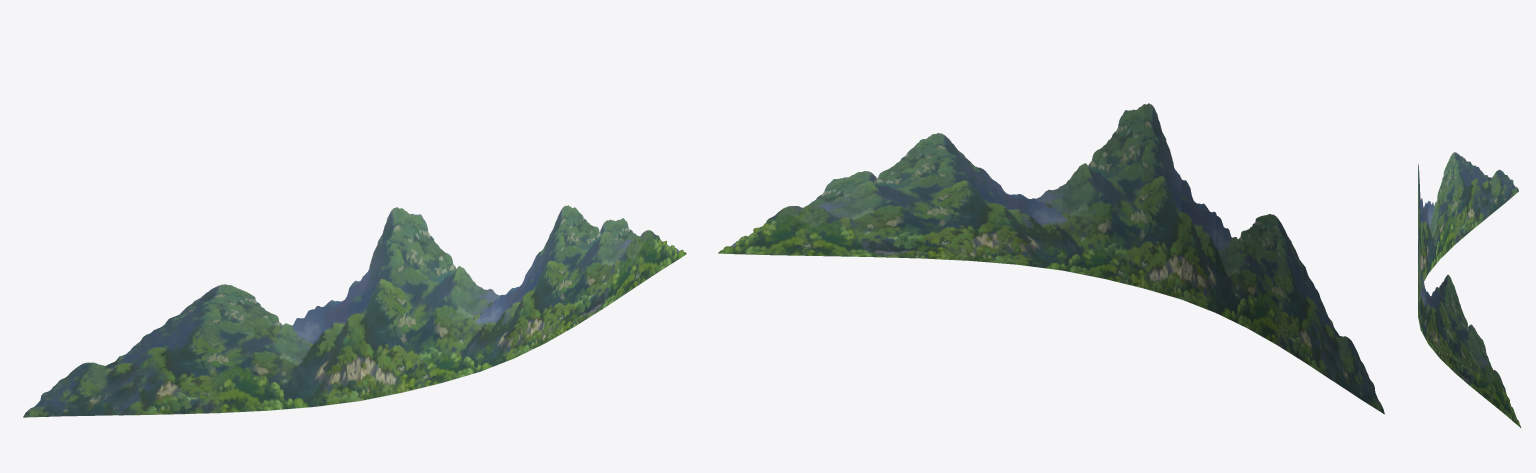
Rendered from Mountain.fbx.
The picture shows the model from 3 angles, left to right: view 1: azimuth 30°, elevation 25°; view 2: azimuth 150°, elevation 25°; view 3: azimuth 270°, elevation 25°; orthographic projection. The views are drawn at different scales.
Visible parts, largest first — view 1: Moutain; view 2: Moutain; view 3: Moutain.
Part boxes in pixels (left/top/right/bottom): Moutain: left=23, top=205, right=686, bottom=417; Moutain: left=718, top=103, right=1384, bottom=414; Moutain: left=1418, top=152, right=1520, bottom=427.
Size of the model in its own units: 25.13 by 10 by 4.6.
